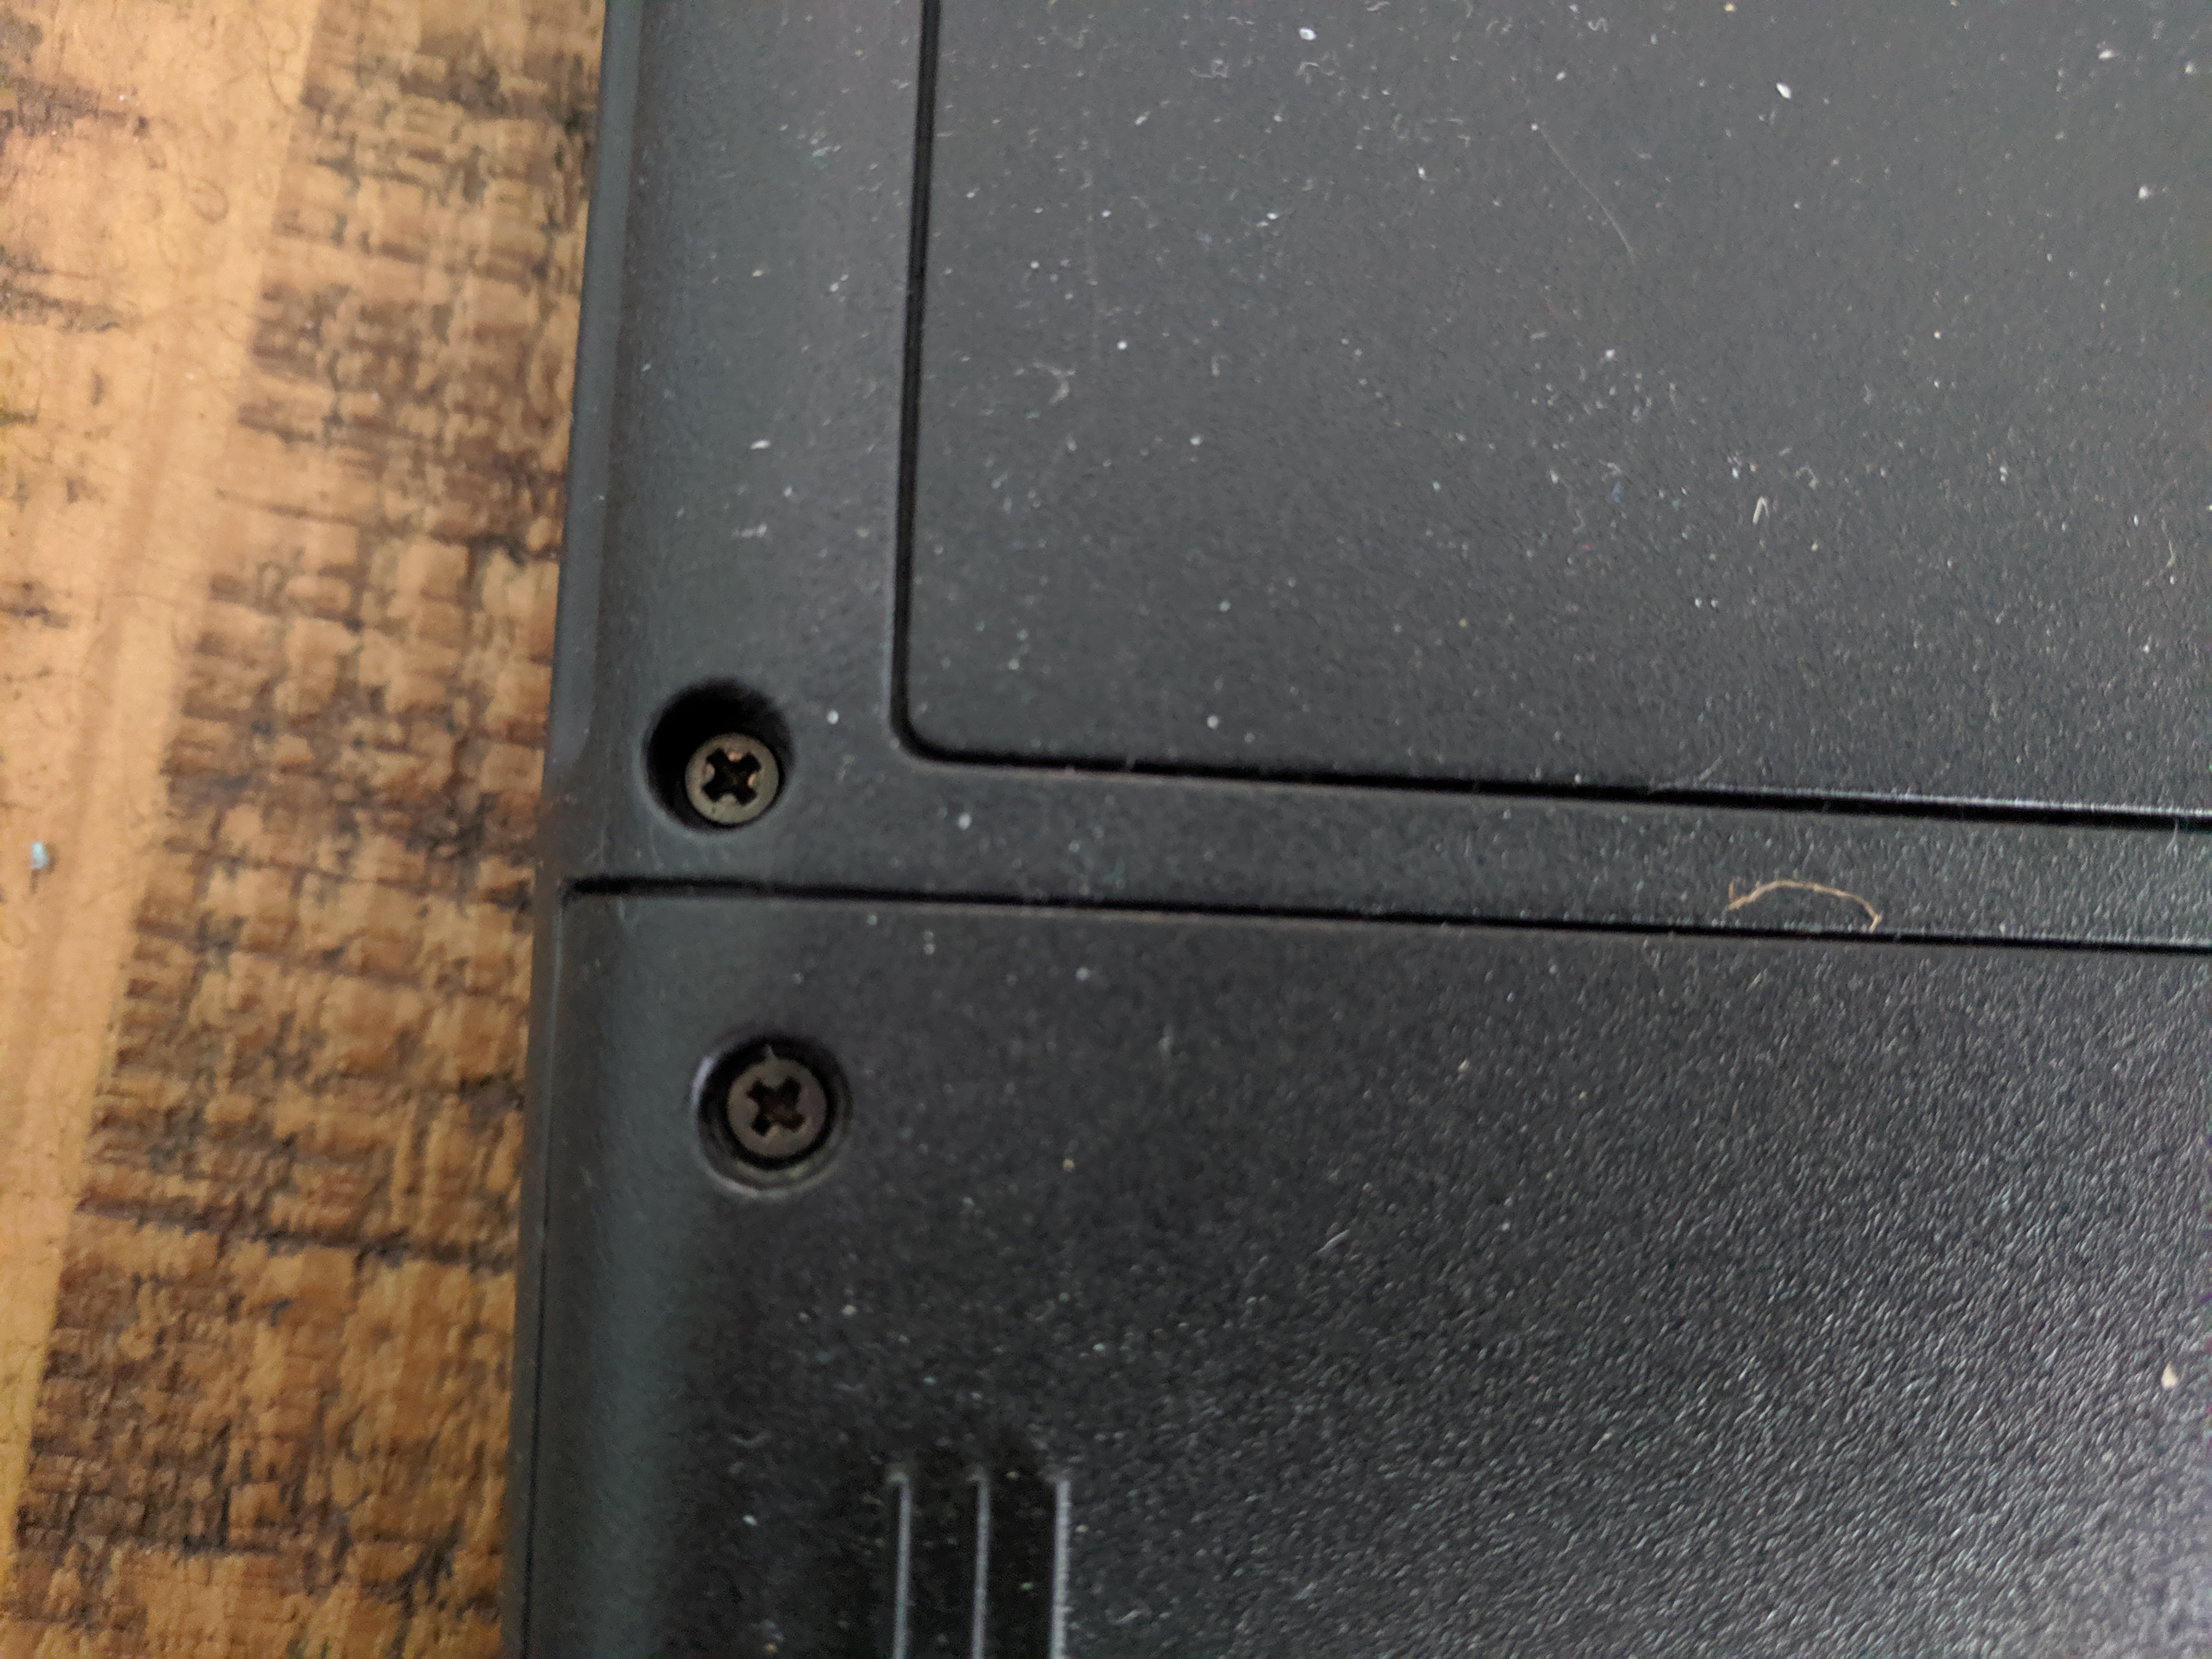cross_recessed_screw: (711, 1046, 831, 1171), (665, 713, 779, 828)
